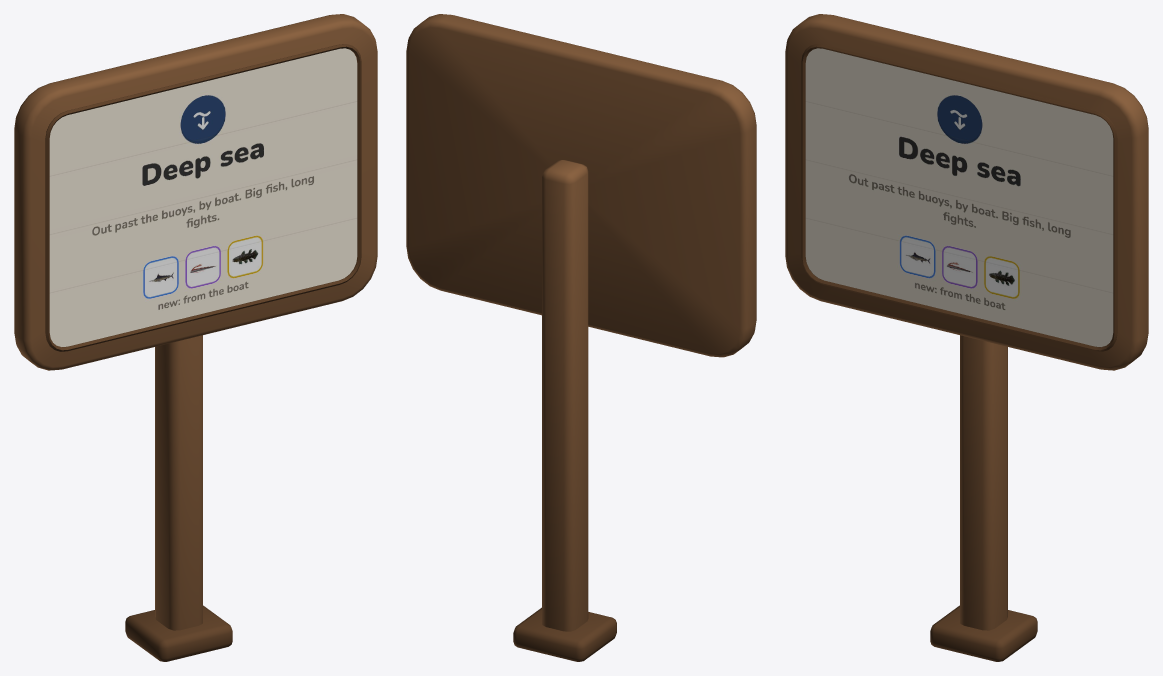
File: water-sign-deep-hd.glb
The picture shows the model from 3 angles, left to right: view 1: azimuth 30°, elevation 25°; view 2: azimuth 150°, elevation 25°; view 3: azimuth 330°, elevation 25°; orthographic projection. The views are drawn at different scales.
Visible parts, largest first — view 1: water-sign; view 2: water-sign; view 3: water-sign.
Part boxes in pixels (bbox=[...]): water-sign: bbox=[14, 14, 377, 661]; water-sign: bbox=[406, 14, 756, 661]; water-sign: bbox=[785, 14, 1148, 661].
Bounding box in the file's own units: 1.15 × 1.87 × 0.253.
Materials: 2 (1 with a texture image).
